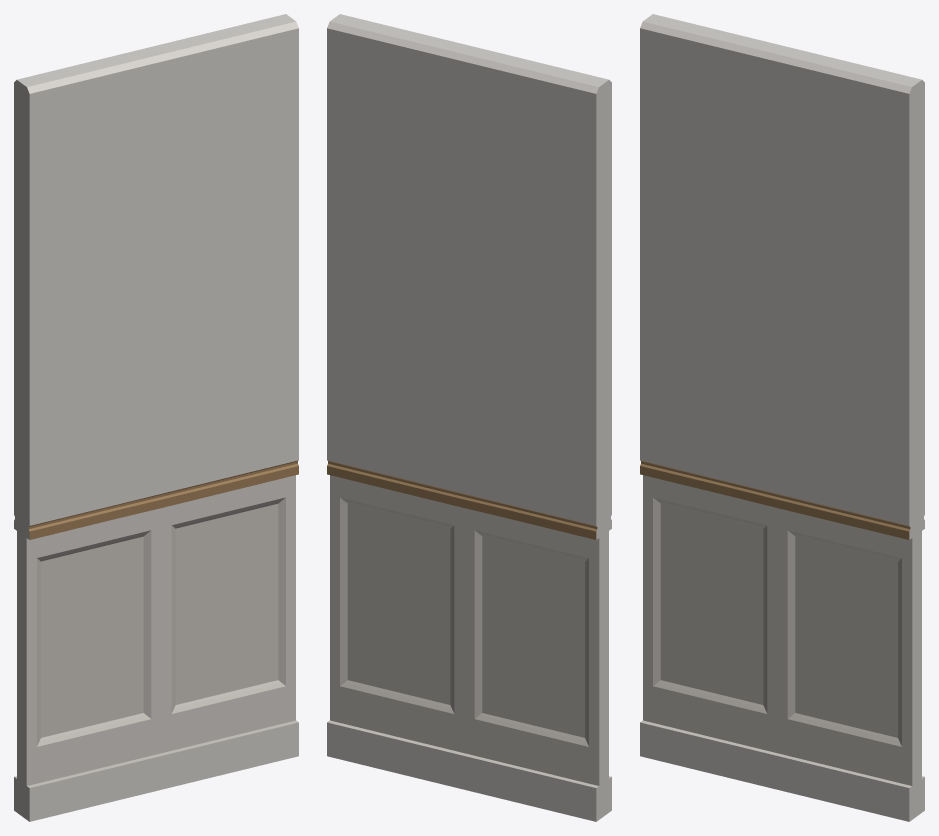
File: plain-wall-segment-143b6d.glb
The picture shows the model from 3 angles, left to right: view 1: azimuth 30°, elevation 25°; view 2: azimuth 150°, elevation 25°; view 3: azimuth 330°, elevation 25°; orthographic projection.
Parts seen in each view (by area): view 1: plain-wall-segment; view 2: plain-wall-segment; view 3: plain-wall-segment.
Part boxes in pixels (box(x1,y1,x2,y2)): plain-wall-segment: box(14, 14, 298, 821); plain-wall-segment: box(327, 14, 611, 821); plain-wall-segment: box(640, 14, 924, 821).
Size of the model in its own units: 1 by 2.6 by 0.1.
